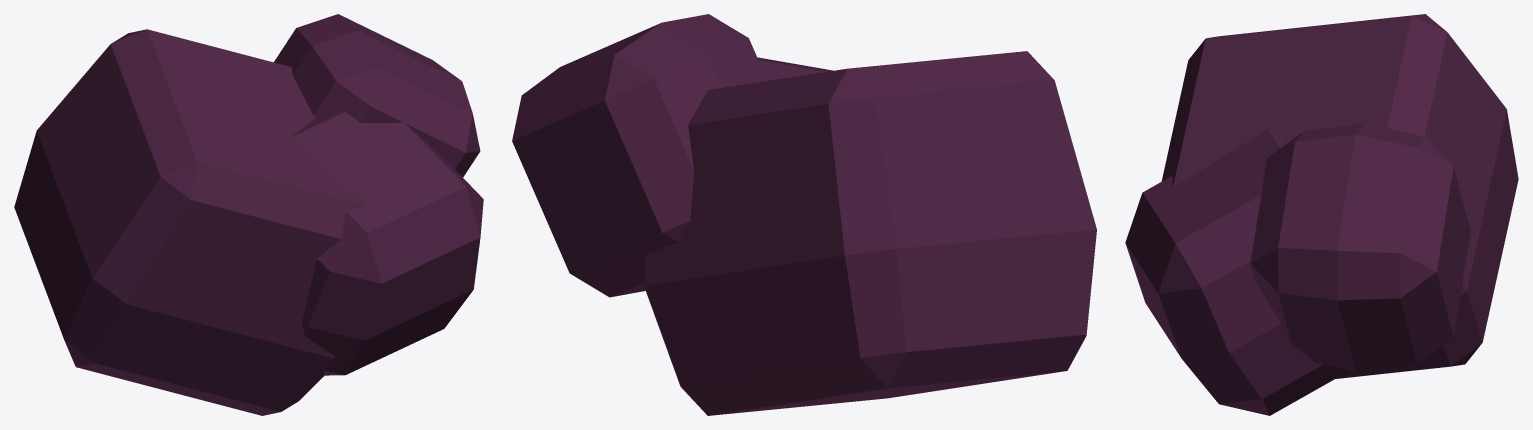
Rendered from rock.glb.
3 views of the same model, side by side, from view 1: azimuth 30°, elevation 25°; view 2: azimuth 150°, elevation 25°; view 3: azimuth 270°, elevation 25° (orthographic). The views are drawn at different scales.
Visible parts, largest first — view 1: Cube; view 2: Cube; view 3: Cube.
Part boxes in pixels (bbox=[...]): Cube: bbox=[14, 14, 483, 415]; Cube: bbox=[512, 14, 1096, 415]; Cube: bbox=[1125, 14, 1518, 415].
Bounding box in the file's own units: 4.66 × 3.54 × 3.61.
1 material, 1 textured.
